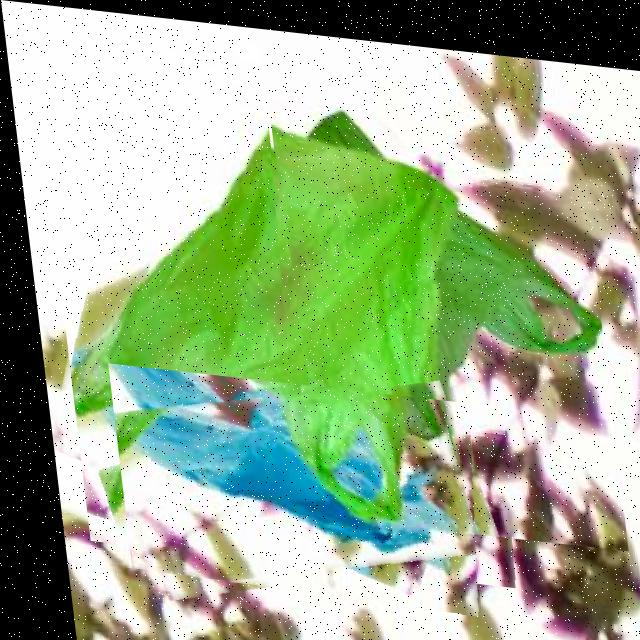litter: (29, 32, 520, 579), (265, 93, 616, 538), (98, 362, 479, 608)
